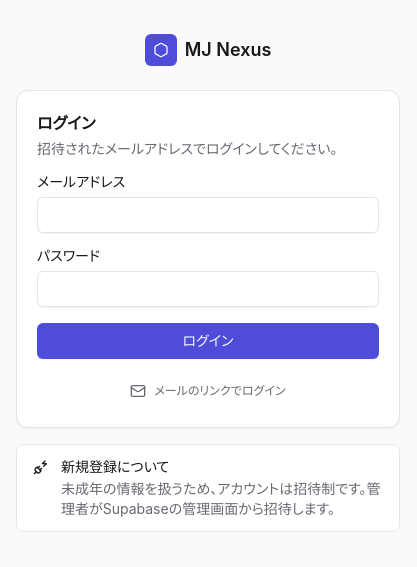
Test: Supabase接続モード › ログイン画面で不正なメールアドレスは送信しない
Type "not-an-email" into the field labelled "メールアドレス".
click(208, 215); type("not-an-email")  # box top-left (37, 197), bottom-right (379, 233)
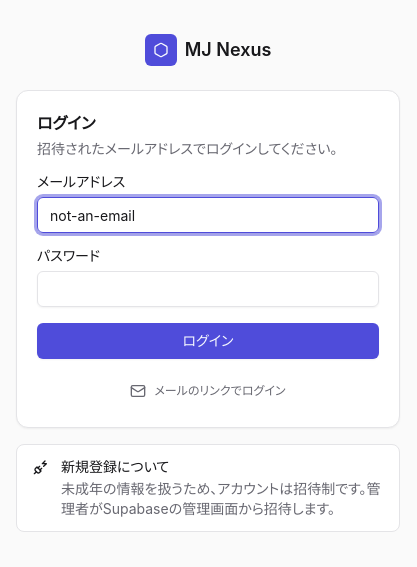
Type "password123" into the password field labelled "パスワード".
click(208, 289); type("password123")  # box top-left (37, 271), bottom-right (379, 307)
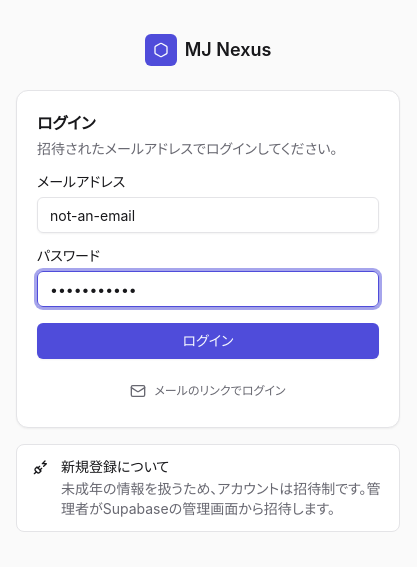
Click the button "ログイン".
click(208, 341)  # box top-left (37, 323), bottom-right (379, 359)
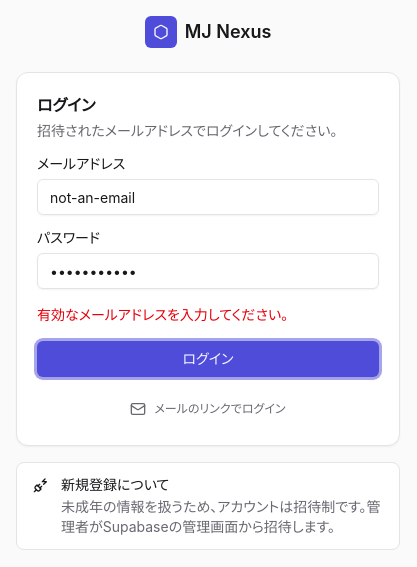
Expected: the message shows "有効なメールアドレス", top-left (37, 306), bottom-right (288, 323)
